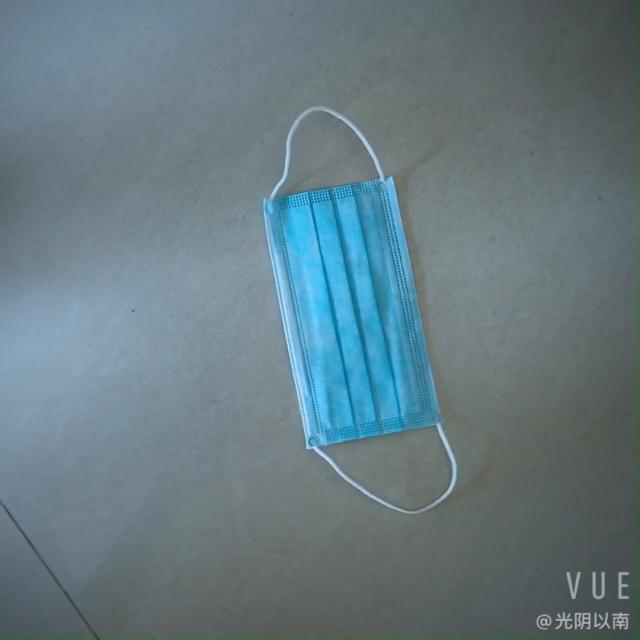face mask: (256, 158, 462, 455)
